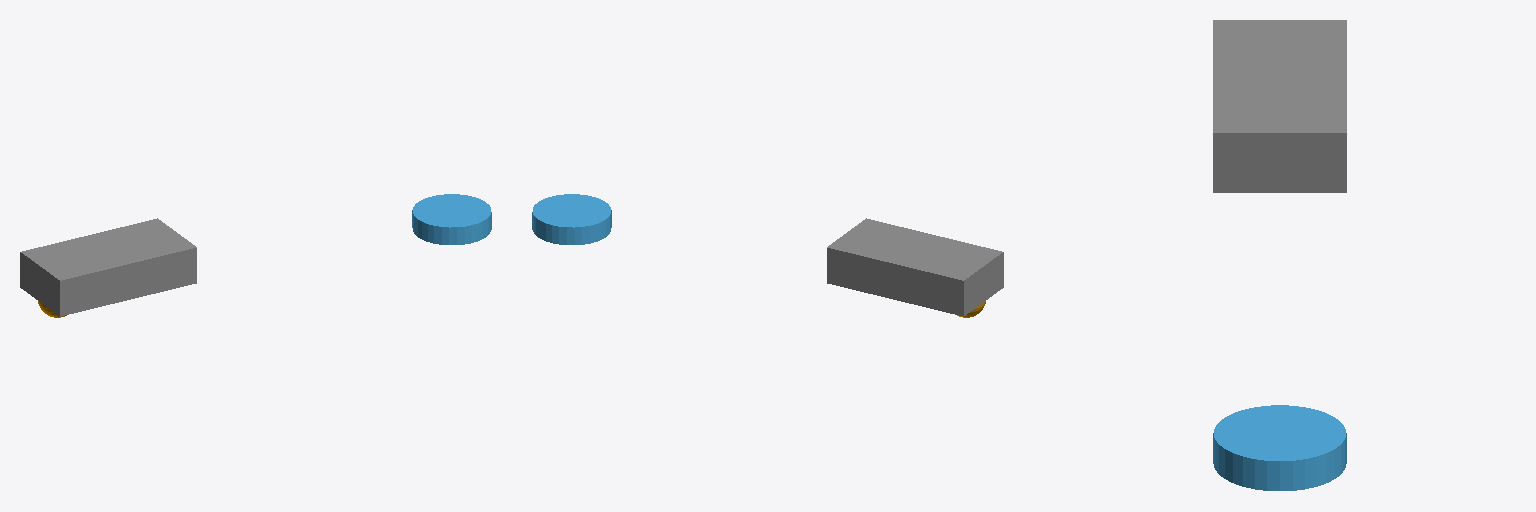
The robot description file, URDF, robot "base_model":
<?xml version='1.0'?>
<robot name="base_model">

    <material name="black">
        <color rgba="0 0 0 1"/>
    </material>
    <material name="grey">
        <color rgba=".6 .6 .6 1"/>
    </material>

    <link name='chassis'>
        <inertial>
            <origin xyz="0 0 0.1" rpy="0 0 0"/>
            <mass value="1"/>
            <inertia ixx="100"  ixy="0"  ixz="0" iyy="100" iyz="0" izz="100" />
        </inertial>

        <collision>
            <origin xyz="0 0 .1" rpy="0 0 0 "/>
            <geometry>
                <box size=".4 .2 .2"/>
            </geometry>
        </collision>

        <visual>
            <origin rpy="0 0 0" xyz="0 0 0.1"/>
            <geometry>
                <box size=".4 .2 .1"/>
            </geometry>
            <material name="grey"/>
        </visual>
        <visual>
            <origin xyz="-0.15 0 0.05" />
            <geometry>
                <sphere radius=".05"/>
            </geometry>
        </visual>
    </link>

    <link name="left_wheel">
        <origin xyz="0.1 0.13 0.1" rpy="0 1.5707 1.5707"/>
        <collision>
            <geometry>
                <cylinder radius="0.1" length=".05"/>
            </geometry>
        </collision>

        <visual>
             <geometry>
                <cylinder radius="0.1" length=".05"/>
             </geometry>
        </visual>
    </link>

    <joint name="left_wheel_revolute" type="revolute">
        <origin xyz="1 0 0"/>
        <parent link="chassis"/>
        <child link="left_wheel"/>
        <axis xyz="1 0 0 " />
        <limit effort="30" velocity="1.0"/>
    </joint>
</robot>

--- Render facts (derived) ---
The picture shows the robot from 3 angles, left to right: view 1: azimuth 30°, elevation 25°; view 2: azimuth 150°, elevation 25°; view 3: azimuth 270°, elevation 25°; orthographic projection.
Model base_model with 2 links and 1 joints (1 revolute), rooted at chassis, posed all joints at 0.
Links seen in each view (by area): view 1: chassis, left_wheel; view 2: chassis, left_wheel; view 3: chassis, left_wheel.
Boxes of the visible links, x1,y1,x2,y2 form: chassis: (20, 218, 196, 317); left_wheel: (412, 194, 491, 244); chassis: (827, 218, 1003, 317); left_wheel: (532, 194, 611, 244); chassis: (1213, 20, 1346, 192); left_wheel: (1213, 405, 1346, 490).
Size in the robot's own frame: 1.3 by 0.2 by 0.175 metres.
Geometry: primitives only (box / cylinder / sphere), no mesh files.